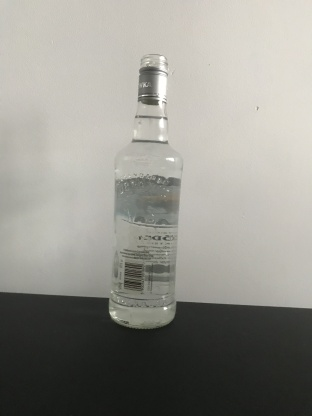nakretka: (136, 51, 169, 106)
